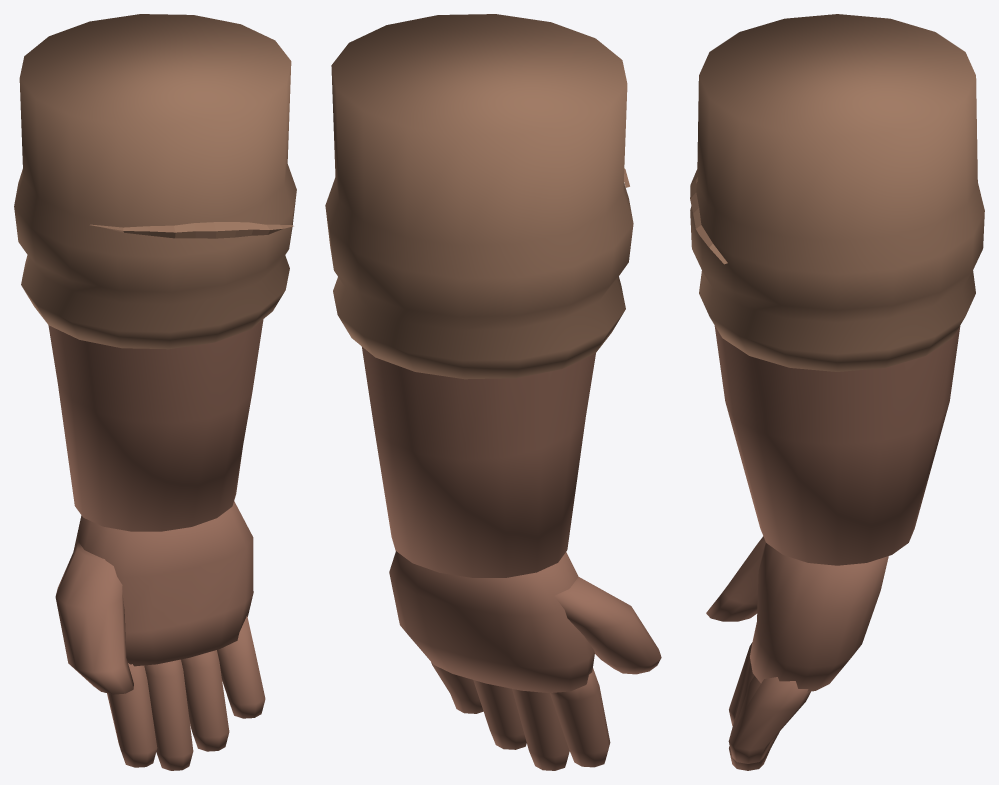
File: AdaForearmR.glb
3 renders of one model, left to right at view 1: azimuth 30°, elevation 25°; view 2: azimuth 150°, elevation 25°; view 3: azimuth 270°, elevation 25°, orthographic. The views are drawn at different scales.
Visible parts, largest first — view 1: AdaForearmR; view 2: AdaForearmR; view 3: AdaForearmR.
Part boxes in pixels (box(x1,y1,x2,y2)): AdaForearmR: box(14, 14, 296, 770); AdaForearmR: box(325, 14, 661, 770); AdaForearmR: box(690, 14, 984, 770).
Bounding box in the file's own units: 0.172 × 0.436 × 0.168.
